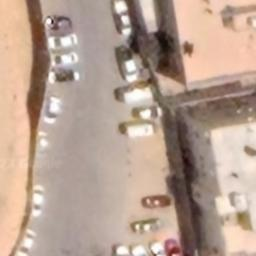sedan: (128, 214, 170, 237), (41, 92, 66, 128), (26, 184, 50, 220), (139, 188, 174, 210), (45, 34, 83, 50), (18, 226, 36, 256), (48, 52, 78, 68), (36, 130, 51, 157), (164, 236, 180, 256)
truck: (110, 44, 140, 86), (113, 4, 135, 36)
